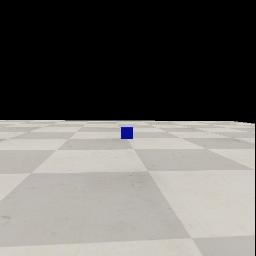box: (121, 127, 133, 139)
